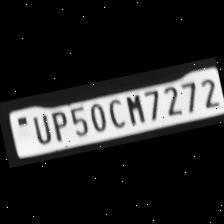0: (84, 98, 107, 132)
2: (195, 73, 222, 110), (156, 83, 182, 119)
5: (64, 103, 90, 138)
7: (176, 78, 201, 114), (140, 86, 164, 120)
C: (101, 94, 126, 128)
M: (119, 90, 146, 127)
P: (45, 107, 70, 142)
U: (28, 110, 54, 146)
